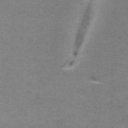finishing roll printing: (72, 0, 96, 56), (87, 75, 104, 86), (68, 60, 75, 67)
